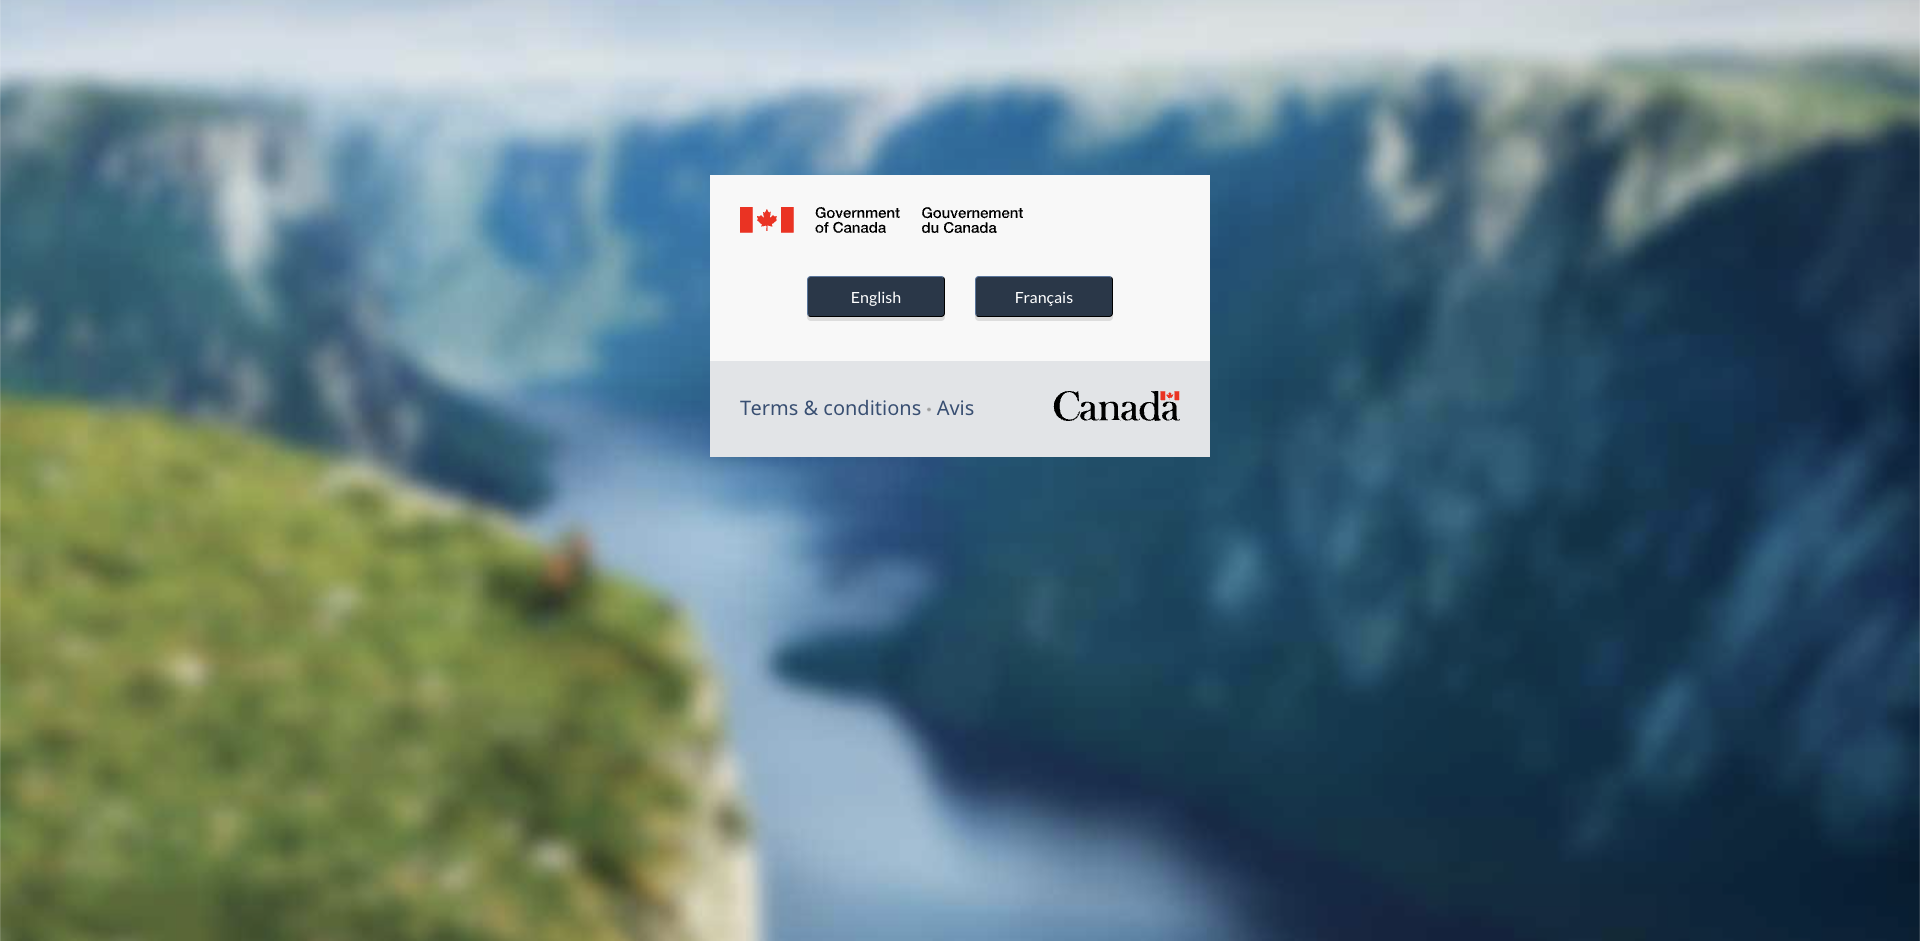button: (807, 276, 945, 316), (975, 276, 1113, 316)
link: (740, 395, 921, 421), (937, 395, 975, 421)
